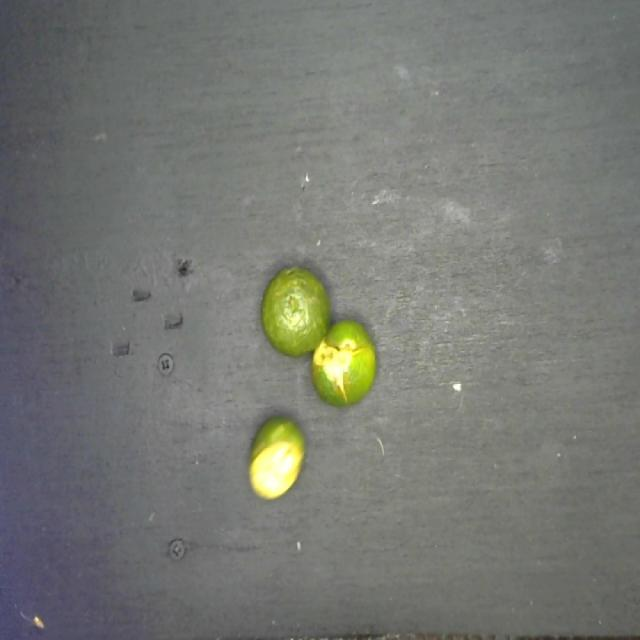biodegradable: (237, 242, 382, 510)
